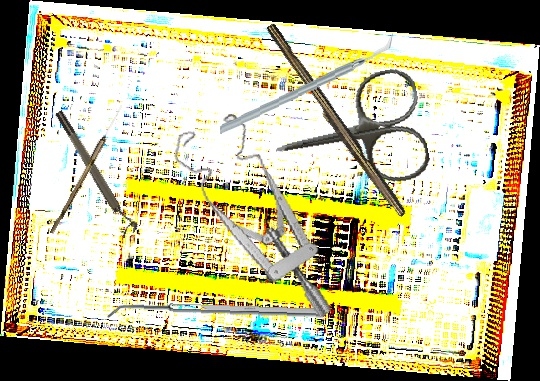Chopper: (215, 33, 399, 135)
Fixation Ring: (52, 105, 141, 239)
Iris Scissors: (265, 65, 433, 204)
Scalpel Handle: (259, 22, 411, 221)
Spatula Surgical: (106, 301, 325, 326)
Speculum: (168, 101, 335, 340)
Surgical Spoon: (49, 103, 125, 236)
